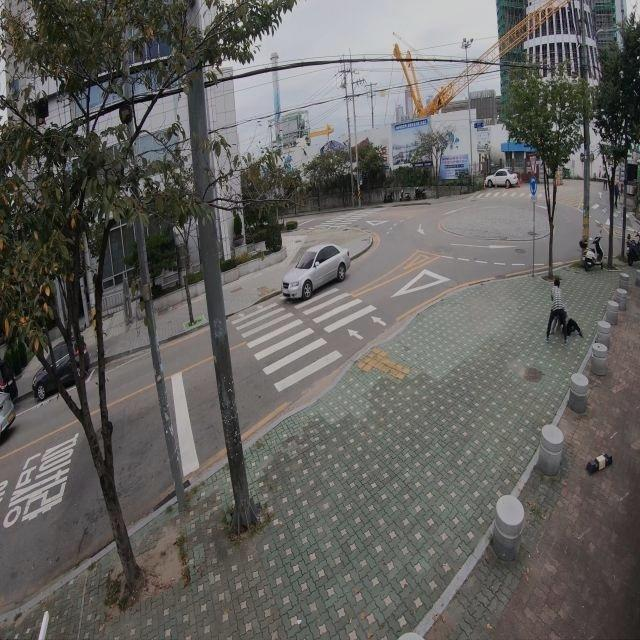fight: (544, 274, 586, 346)
